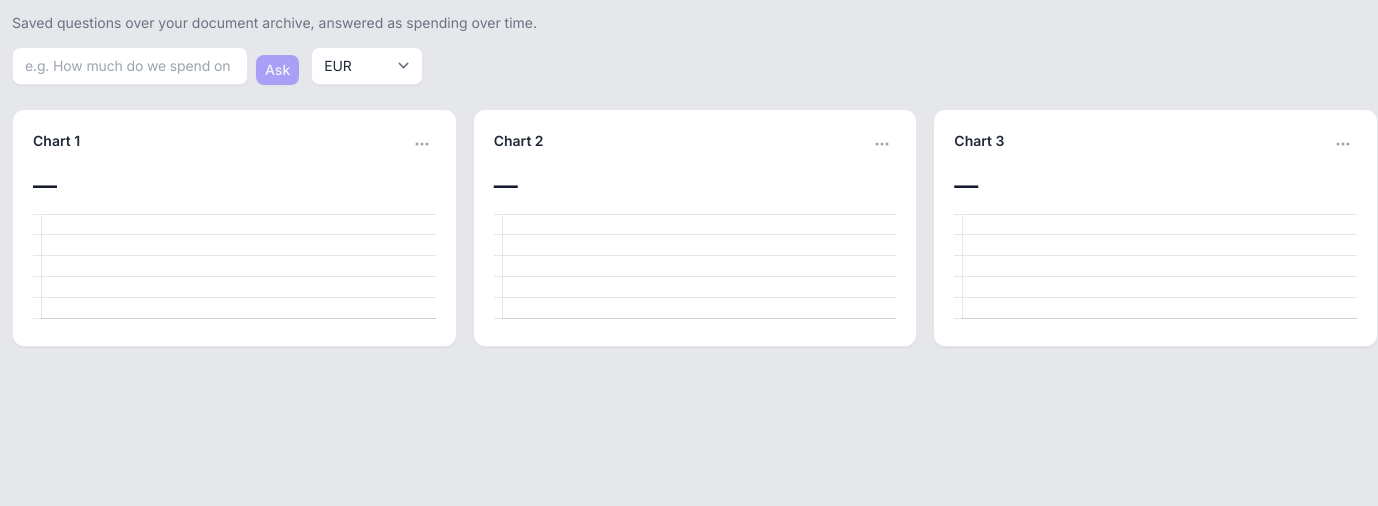
SpendingBoardView › deletes a card and removes it from the board, after confirming
This screenshot has width=1378, height=506.
Click the button with test id "spending-card-menu" at x=422, y=144, box [408,130,436,158]
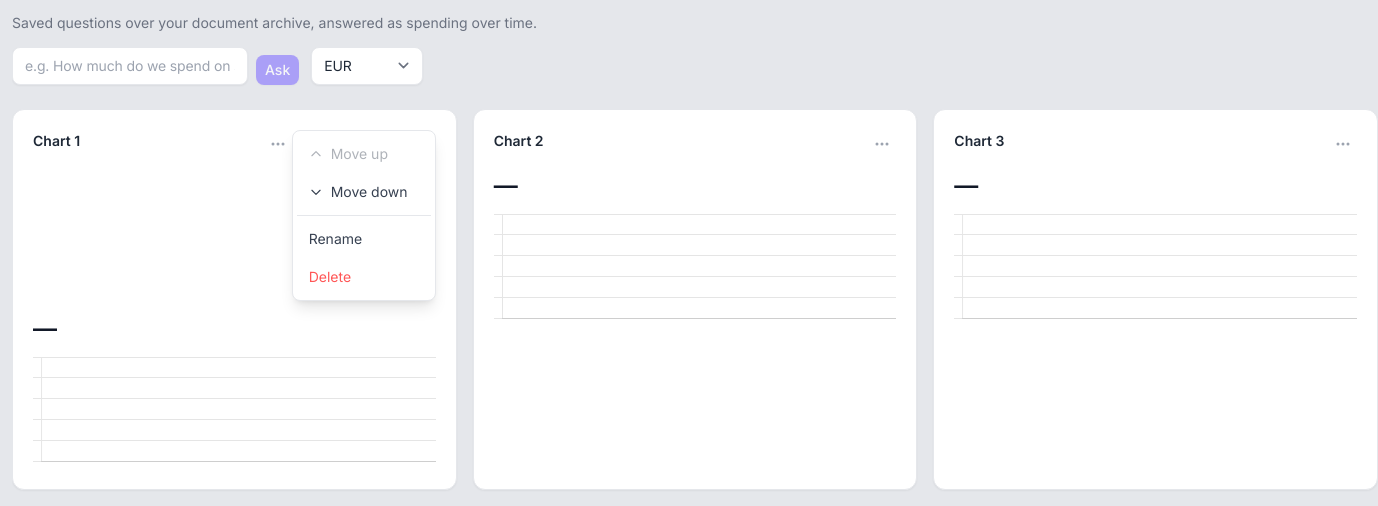
Click the menu item with test id "spending-card-delete" at x=364, y=277, box [297,258,431,296]
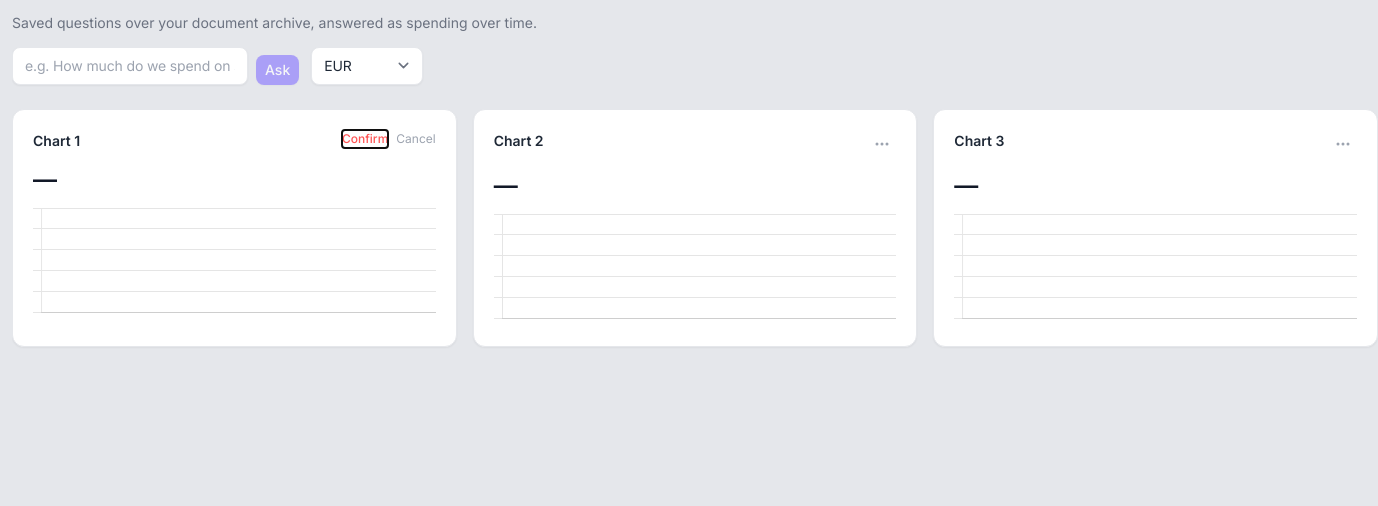
Click the button with test id "spending-card-delete-confirm" at x=365, y=139, box [342,130,388,148]
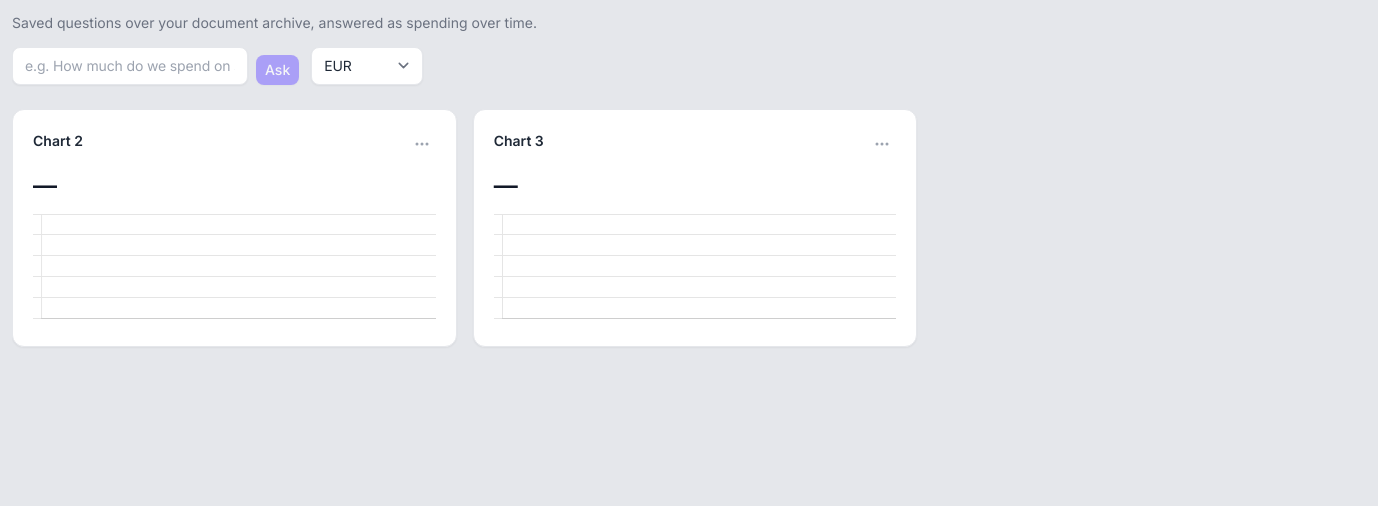
expect the number of elements with test id "spending-card" is 2: met, box [12,109,457,347]; [473,109,917,347]
